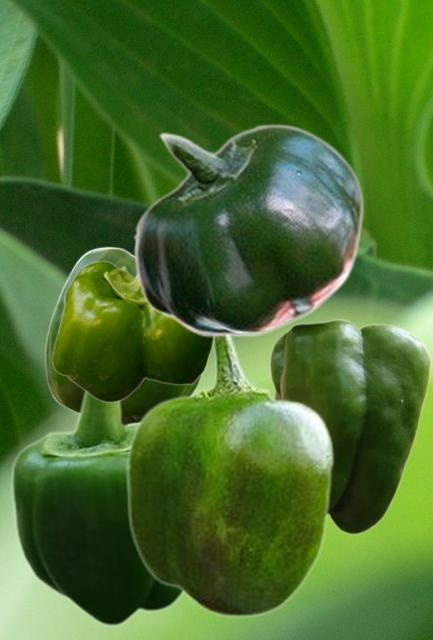bell_pepper: (125, 337, 334, 618), (132, 123, 363, 336), (10, 389, 184, 627), (267, 318, 431, 534), (44, 246, 203, 422), (51, 258, 213, 402)
